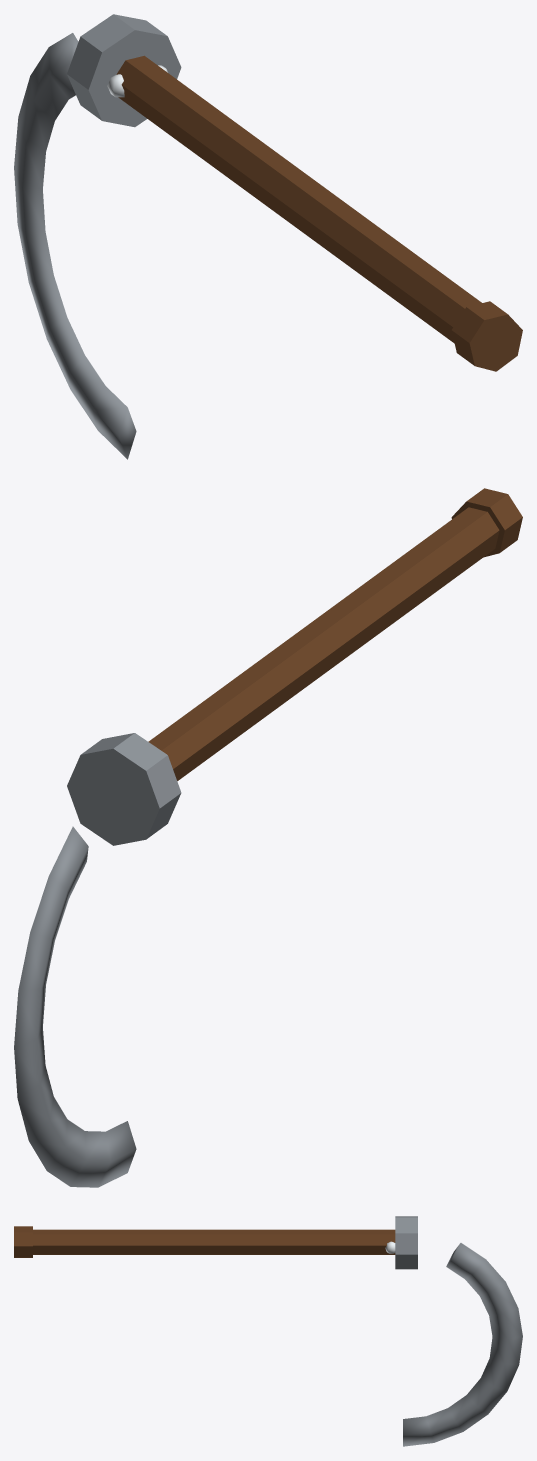
Rendered from Tool_Sickle_Iron.fbx.
3 renders of one model, top to bottom at view 1: azimuth 30°, elevation 25°; view 2: azimuth 150°, elevation 25°; view 3: azimuth 270°, elevation 25°, orthographic. The views are drawn at different scales.
Parts seen in each view (by area): view 1: Tool_Sickle_Iron; view 2: Tool_Sickle_Iron; view 3: Tool_Sickle_Iron.
Part boxes in pixels (x1,y1,x2,y2): Tool_Sickle_Iron: [14, 14, 522, 459]; Tool_Sickle_Iron: [14, 488, 522, 1187]; Tool_Sickle_Iron: [14, 1216, 522, 1446].
Size of the model in its own units: 0.0297 by 0.1329 by 0.267.
